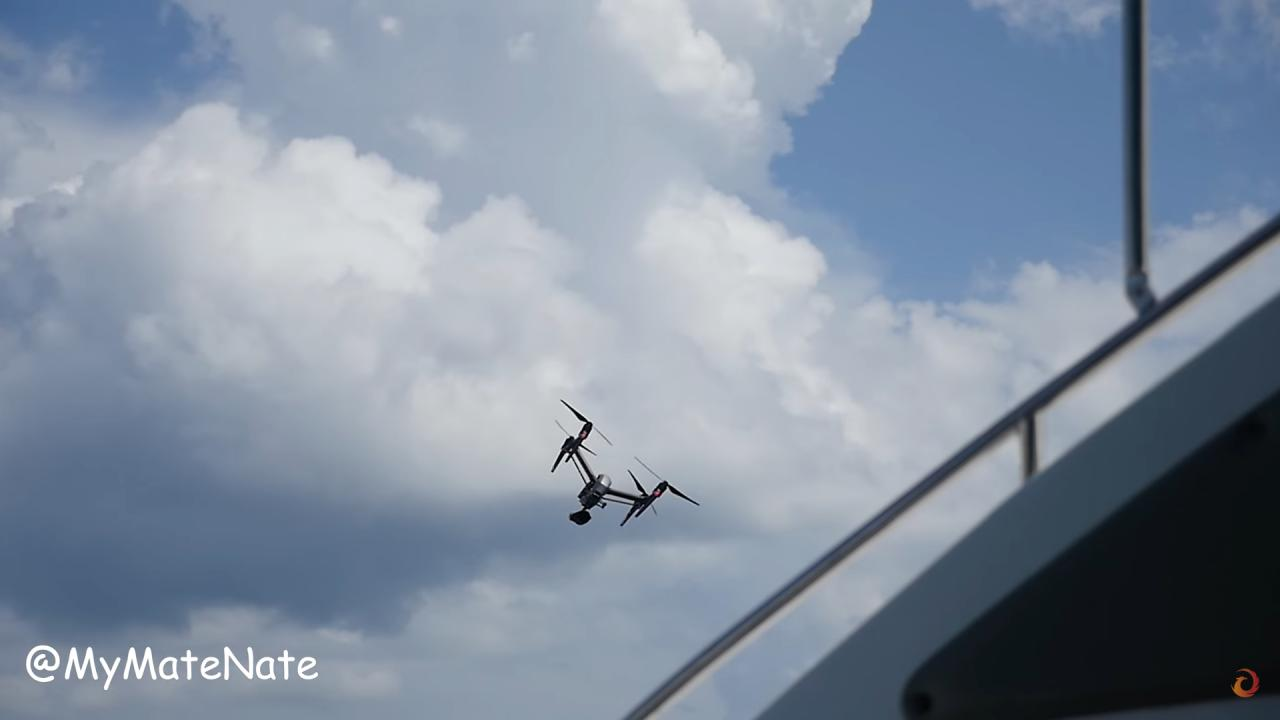Drone: (544, 389, 708, 538)
